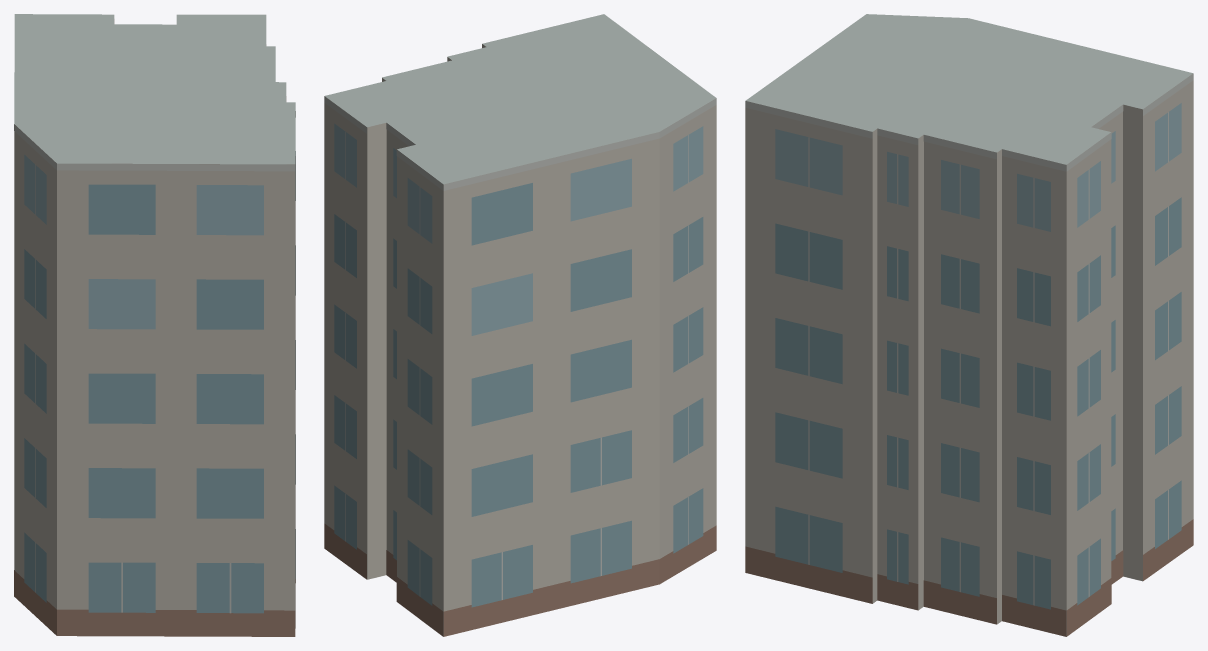
Rendered from survey-upis-32739376.glb.
The picture shows the model from 3 angles, left to right: view 1: azimuth 30°, elevation 25°; view 2: azimuth 150°, elevation 25°; view 3: azimuth 270°, elevation 25°; orthographic projection. The views are drawn at different scales.
Visible parts, largest first — view 1: survey-upis-32739376.tmp; view 2: survey-upis-32739376.tmp; view 3: survey-upis-32739376.tmp.
Part boxes in pixels (x1=…): survey-upis-32739376.tmp: x1=14, y1=14, x2=295, y2=636; survey-upis-32739376.tmp: x1=324, y1=14, x2=716, y2=636; survey-upis-32739376.tmp: x1=745, y1=14, x2=1193, y2=636.
Size of the model in its own units: 11.46 by 16.7 by 14.38.
